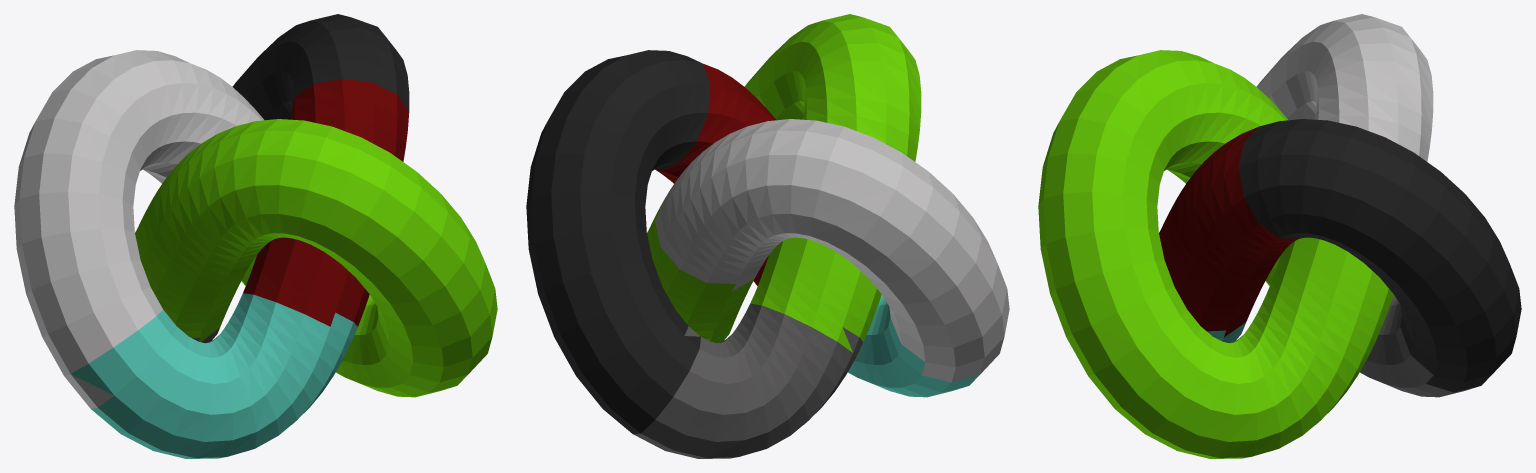
File: torus_knot_mtl.obj
The picture shows the model from 3 angles, left to right: view 1: azimuth 30°, elevation 25°; view 2: azimuth 150°, elevation 25°; view 3: azimuth 270°, elevation 25°; orthographic projection.
Visible parts, largest first — view 1: Torus_Knot001; view 2: Torus_Knot001; view 3: Torus_Knot001.
Part boxes in pixels (left/top/right/bottom): Torus_Knot001: left=14, top=14, right=497, bottom=458; Torus_Knot001: left=526, top=14, right=1009, bottom=458; Torus_Knot001: left=1038, top=14, right=1521, bottom=458.
Size of the model in its own units: 0.9531 by 0.7551 by 1.01.
